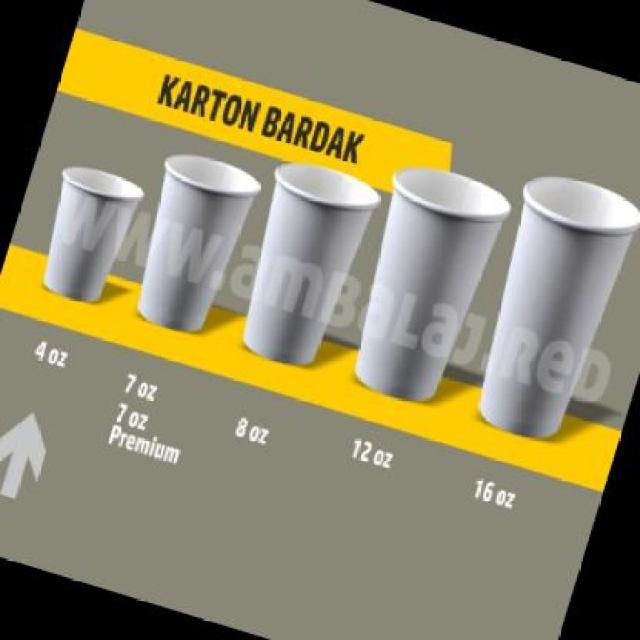non-biodegradable: (441, 164, 640, 475), (323, 154, 520, 428), (215, 154, 388, 388), (115, 135, 267, 351), (15, 154, 148, 318)
